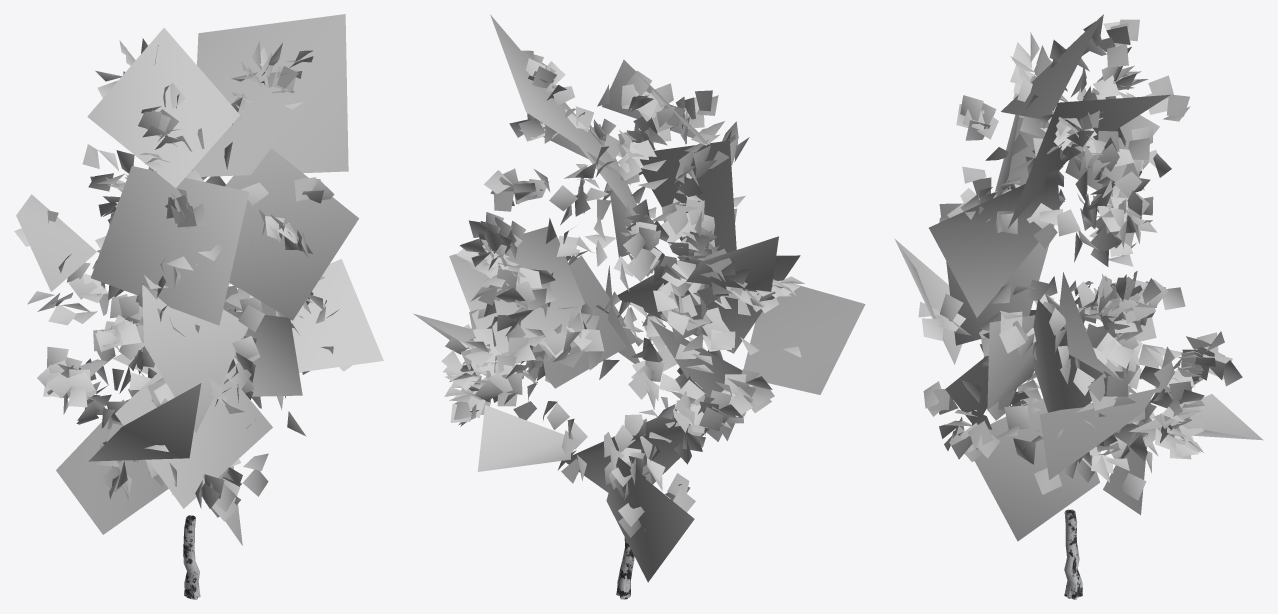
Rendered from 00734 _Birch 03 lod2.FBX.
3 views of the same model, side by side, from view 1: azimuth 30°, elevation 25°; view 2: azimuth 150°, elevation 25°; view 3: azimuth 270°, elevation 25° (orthographic). The views are drawn at different scales.
Visible parts, largest first — view 1: 00734 _Birch 03 lod002; view 2: 00734 _Birch 03 lod002; view 3: 00734 _Birch 03 lod002.
Boxes of the visible parts, left/top/right/bottom form: 00734 _Birch 03 lod002: left=14, top=14, right=383, bottom=599; 00734 _Birch 03 lod002: left=413, top=14, right=865, bottom=599; 00734 _Birch 03 lod002: left=894, top=14, right=1263, bottom=599.
Bounding box in the file's own units: 5.39 × 8.26 × 4.81.
